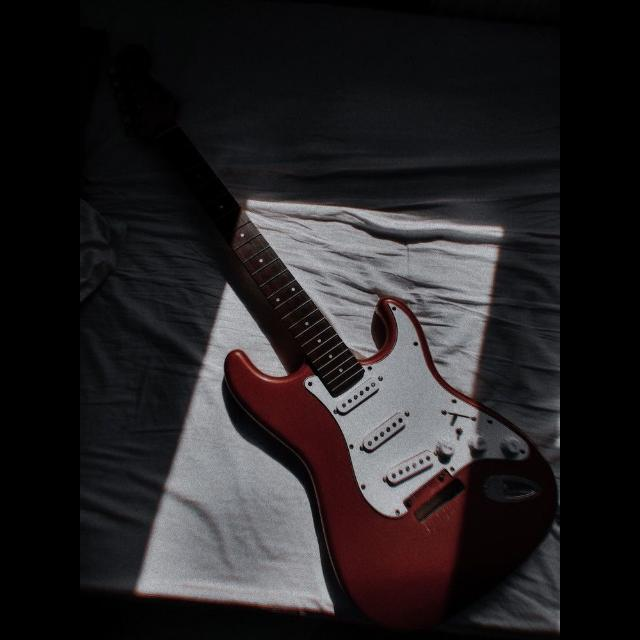Electric-Guitar: (178, 182, 560, 638)
